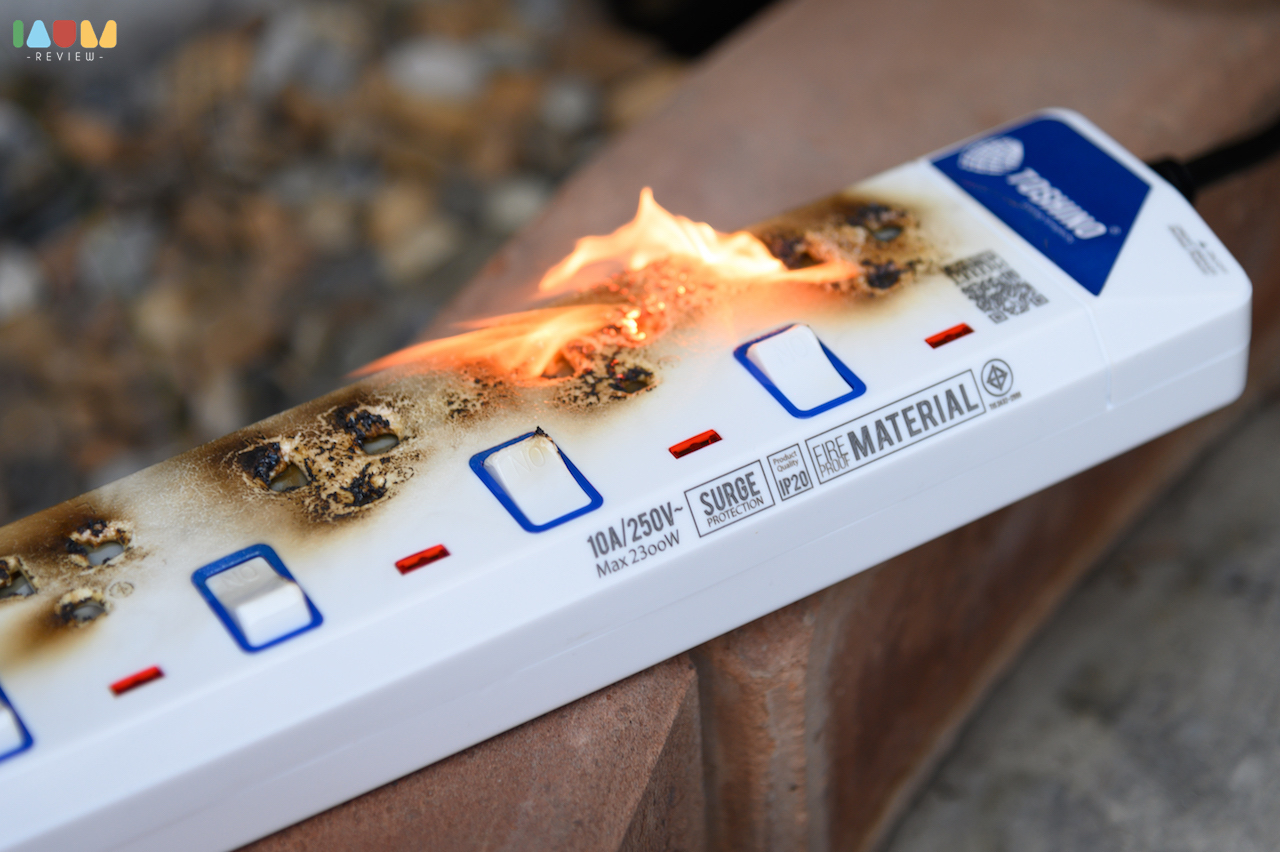Three_eye_plug: (1, 99, 1263, 852)
